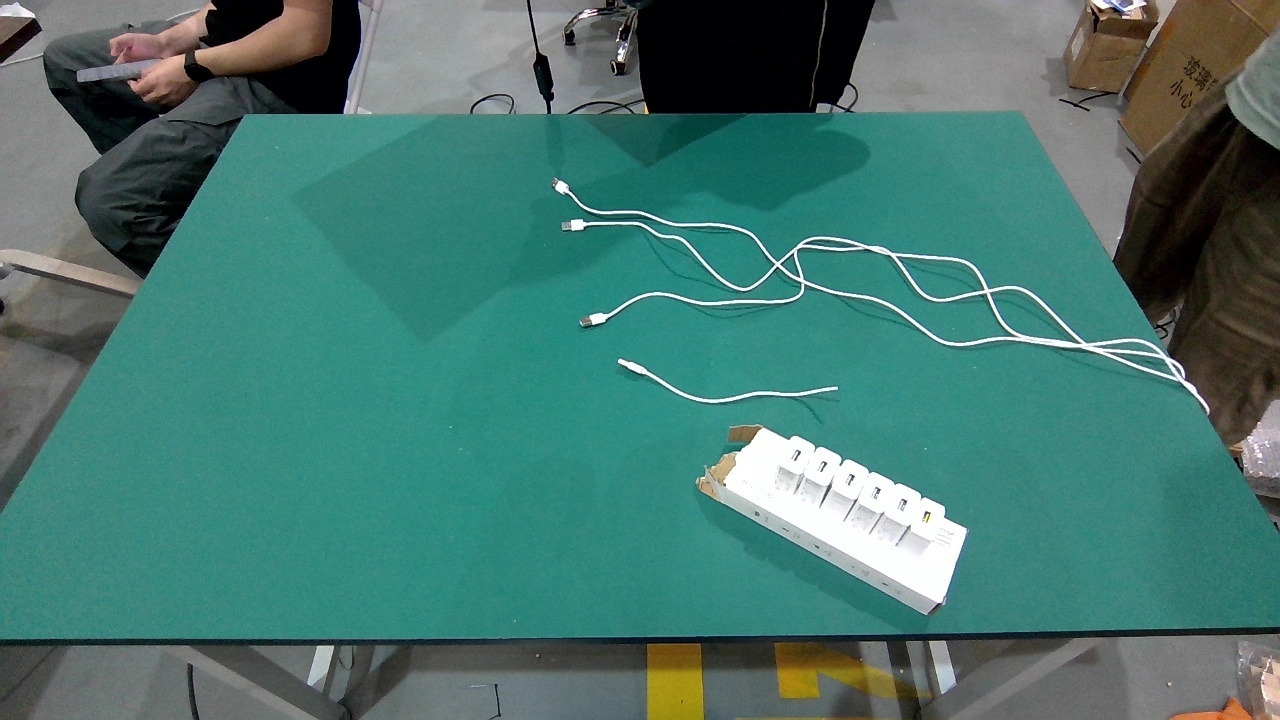usb_a_plug: (617, 357, 653, 379), (548, 176, 576, 199), (579, 310, 614, 326), (561, 219, 594, 231)
